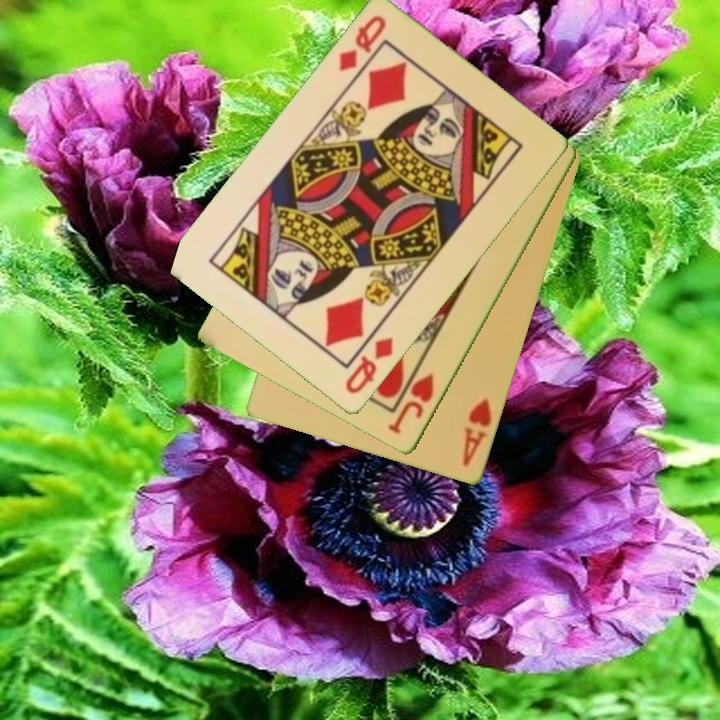Ah: (459, 394, 495, 469)
Jh: (385, 370, 437, 437)
Qd: (341, 334, 397, 397), (335, 12, 390, 76)
